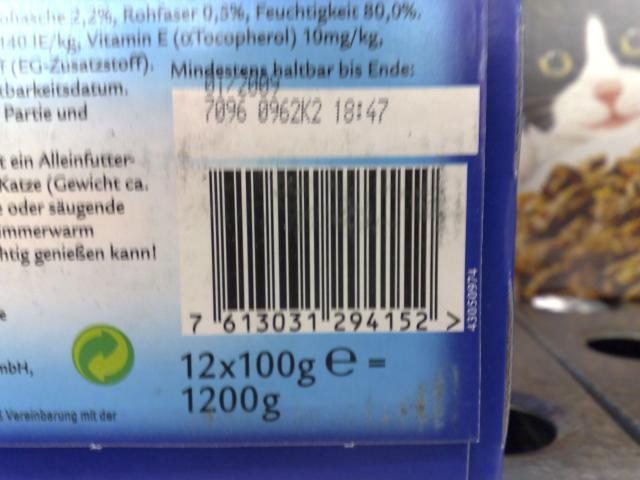Barcode: (175, 166, 465, 334)
